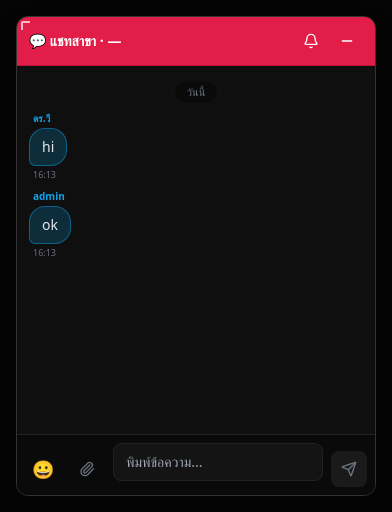
Test: V73.M1 @mention flow › M1.3 click dropdown item appends @name + space
The width and height of the screenshot is (392, 512).
Type "hello @" into the text box with test id "staff-chat-composer-input" at (218, 462), box [113,443,323,481]
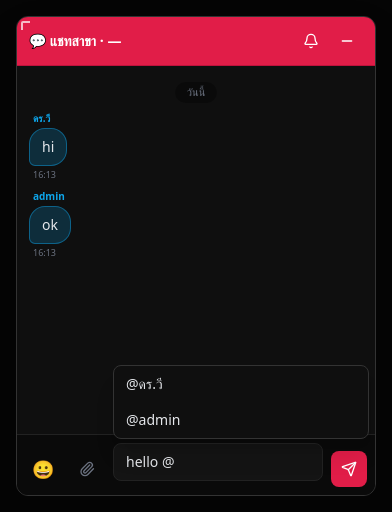
Click the button with test id "staff-chat-mention-dropdown-item-ดร.วี" at (241, 384), box [114,366,368,402]
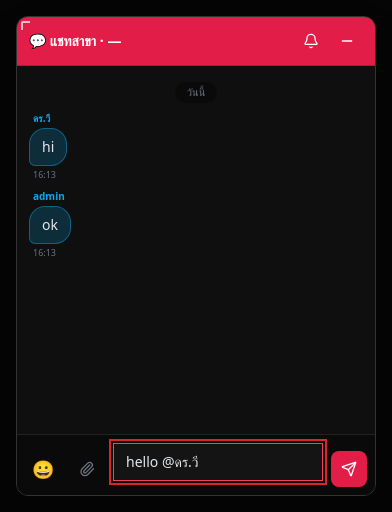
Check: the text box with test id "staff-chat-composer-input" holds "hello @ดร.วี ", box [113,443,323,481]
